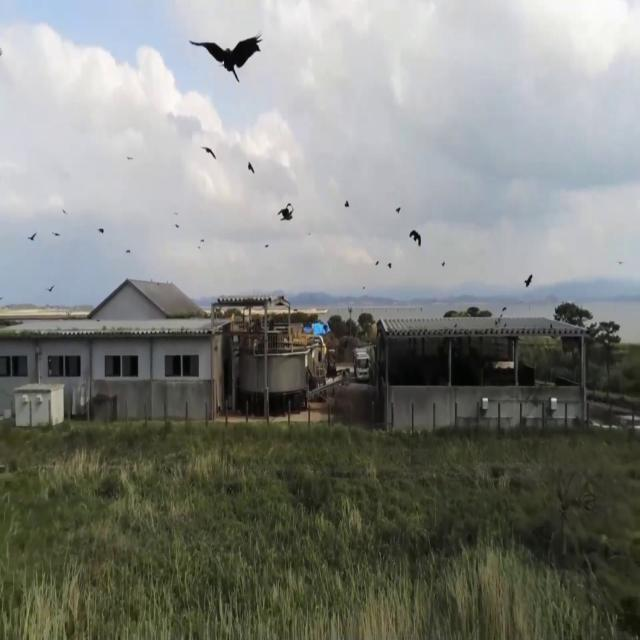bird: (196, 0, 263, 111), (277, 192, 294, 234), (408, 219, 422, 257), (202, 136, 217, 170), (524, 265, 534, 296), (28, 224, 37, 248)
